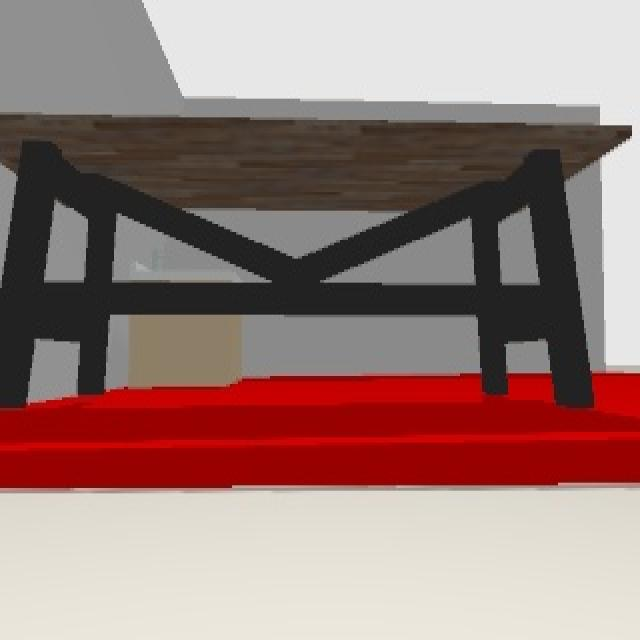dining: (3, 111, 640, 408)
